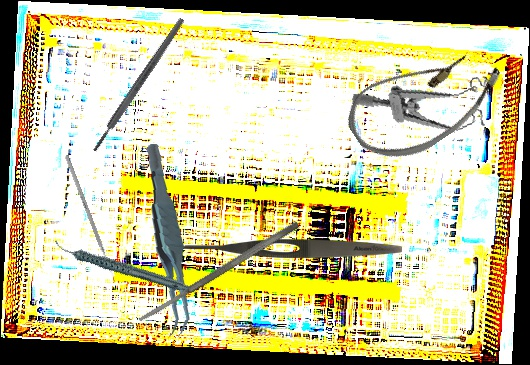Cannula: (336, 21, 513, 179)
Dressing Forceps: (168, 239, 402, 259)
Handpiece: (52, 214, 193, 319)
Pusher: (64, 154, 116, 280)
Scalpel Handle: (90, 16, 187, 154)
Spatula Surgical: (136, 220, 301, 324)
Speculum: (350, 66, 499, 152)
Tissue Forceps: (133, 143, 202, 338)
